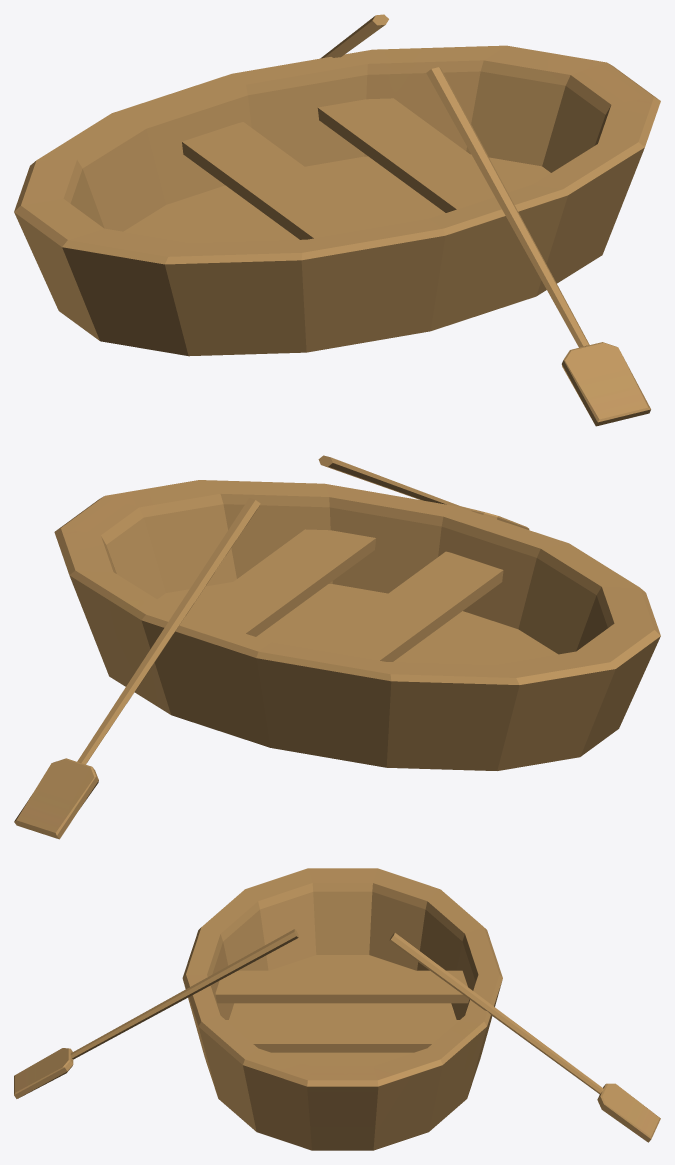
Rendered from bark.glb.
3 renders of one model, top to bottom at view 1: azimuth 30°, elevation 25°; view 2: azimuth 150°, elevation 25°; view 3: azimuth 270°, elevation 25°, orthographic. The views are drawn at different scales.
Visible parts, largest first — view 1: Sphere.027_Material.001_0; view 2: Sphere.027_Material.001_0; view 3: Sphere.027_Material.001_0.
Boxes of the visible parts, bbox=[...] form: Sphere.027_Material.001_0: bbox=[14, 14, 660, 426]; Sphere.027_Material.001_0: bbox=[14, 455, 660, 839]; Sphere.027_Material.001_0: bbox=[14, 868, 660, 1150].
Bounding box in the file's own units: 0.9121 × 0.3532 × 1.15.
Materials: 1 (1 with a texture image).
